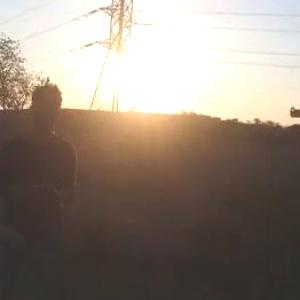follow: (0, 80, 82, 299)
